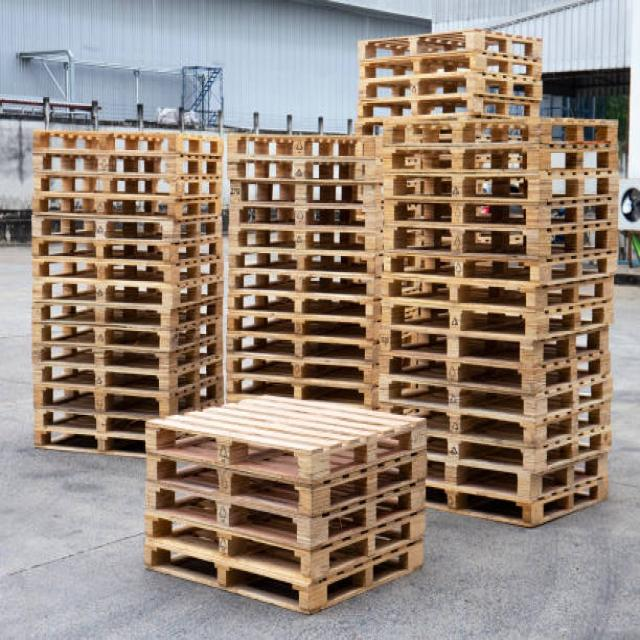Wooden-Pallets: (134, 480, 310, 565), (127, 543, 313, 622), (138, 418, 314, 483), (225, 280, 378, 343), (22, 122, 229, 165), (357, 26, 554, 69), (216, 154, 367, 200), (26, 302, 176, 340), (224, 222, 372, 260)
